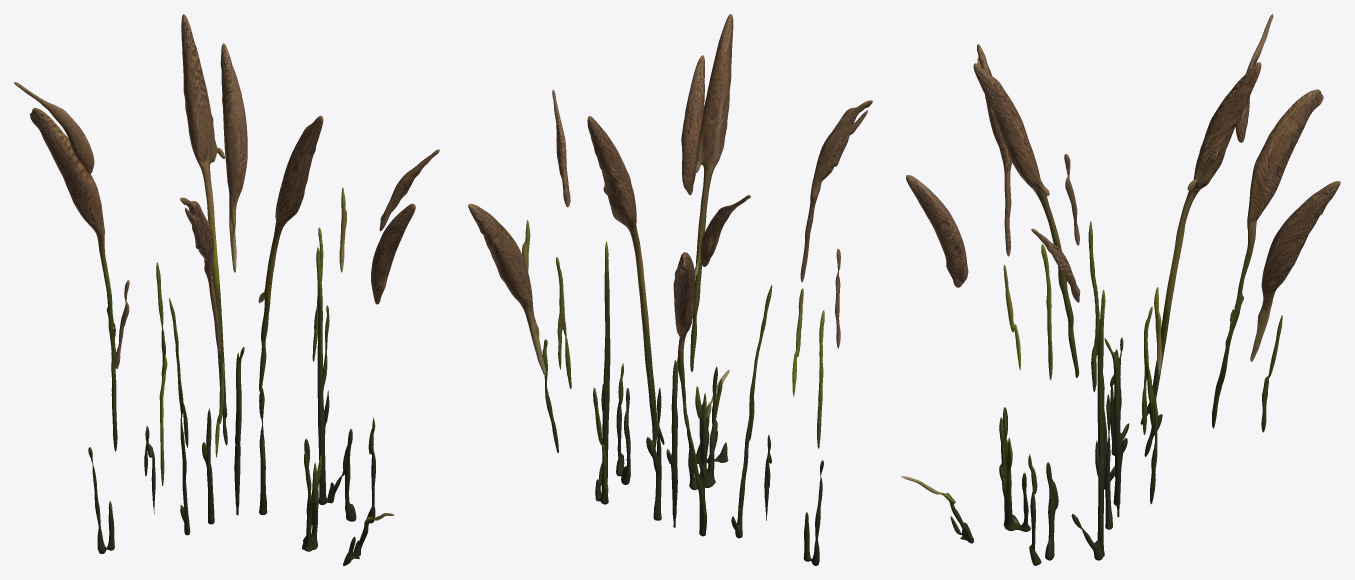
File: grass_tuft.glb
3 views of the same model, side by side, from view 1: azimuth 30°, elevation 25°; view 2: azimuth 150°, elevation 25°; view 3: azimuth 270°, elevation 25° (orthographic). The views are drawn at different scales.
Visible parts, largest first — view 1: tripo_node_1872d1e3-430c-4b6d-8065-742bedd6af77; view 2: tripo_node_1872d1e3-430c-4b6d-8065-742bedd6af77; view 3: tripo_node_1872d1e3-430c-4b6d-8065-742bedd6af77.
Part boxes in pixels (left/top/right/bottom): tripo_node_1872d1e3-430c-4b6d-8065-742bedd6af77: left=14, top=14, right=439, bottom=565; tripo_node_1872d1e3-430c-4b6d-8065-742bedd6af77: left=468, top=14, right=872, bottom=565; tripo_node_1872d1e3-430c-4b6d-8065-742bedd6af77: left=901, top=14, right=1340, bottom=565.
Size of the model in its own units: 0.6129 by 0.8551 by 0.7297.
Materials: 1 (1 with a texture image).
